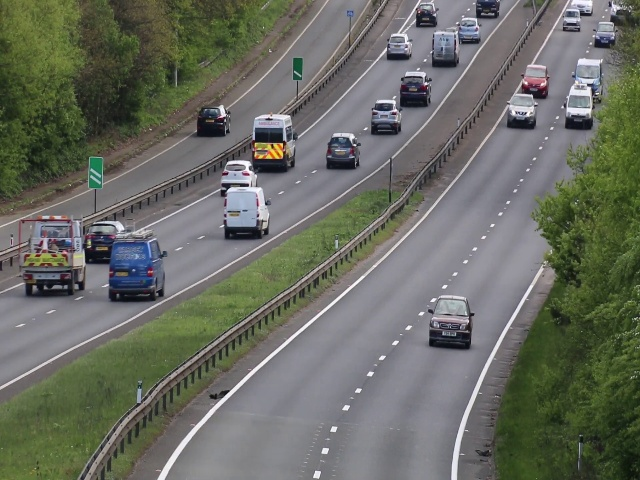car: (19, 212, 86, 299), (109, 234, 168, 300), (220, 185, 270, 241), (250, 112, 297, 170), (429, 290, 473, 348), (85, 218, 125, 262), (218, 156, 259, 195), (323, 129, 359, 169), (564, 84, 594, 128), (367, 98, 403, 133), (397, 70, 431, 107), (522, 59, 550, 102), (431, 26, 460, 67), (195, 103, 232, 135), (506, 92, 537, 130), (386, 32, 413, 60), (593, 20, 617, 50), (459, 15, 482, 43), (414, 1, 438, 26), (561, 3, 582, 31)
